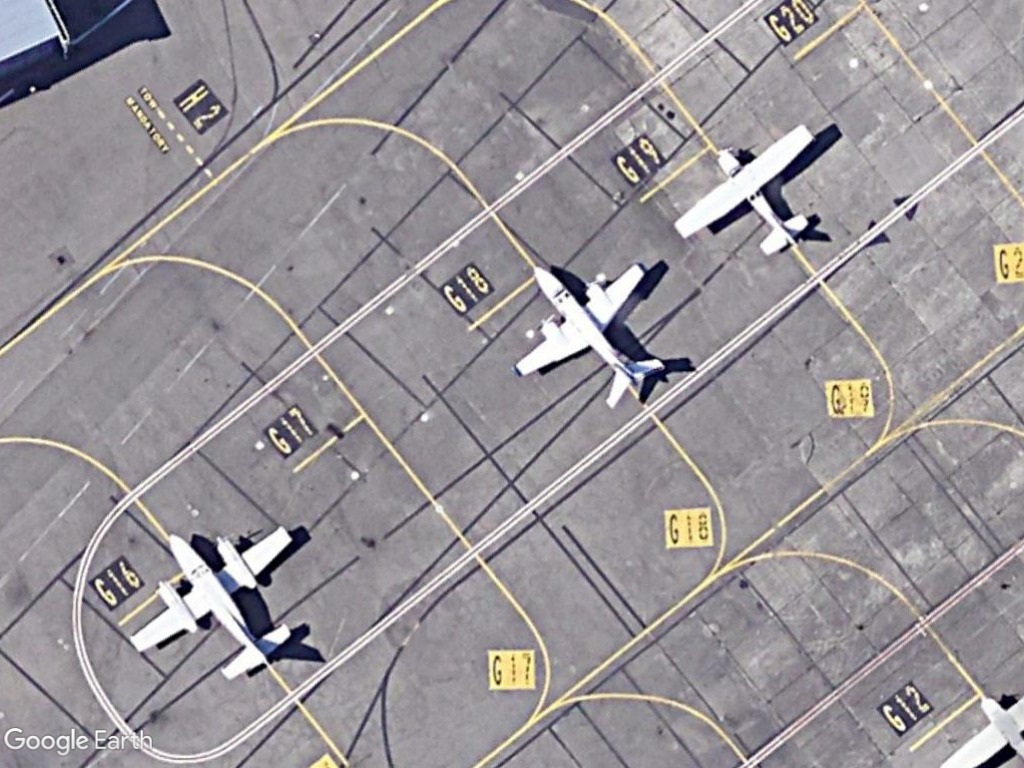propeller: (124, 520, 309, 682), (509, 256, 665, 407)
trainer: (670, 118, 818, 258)
